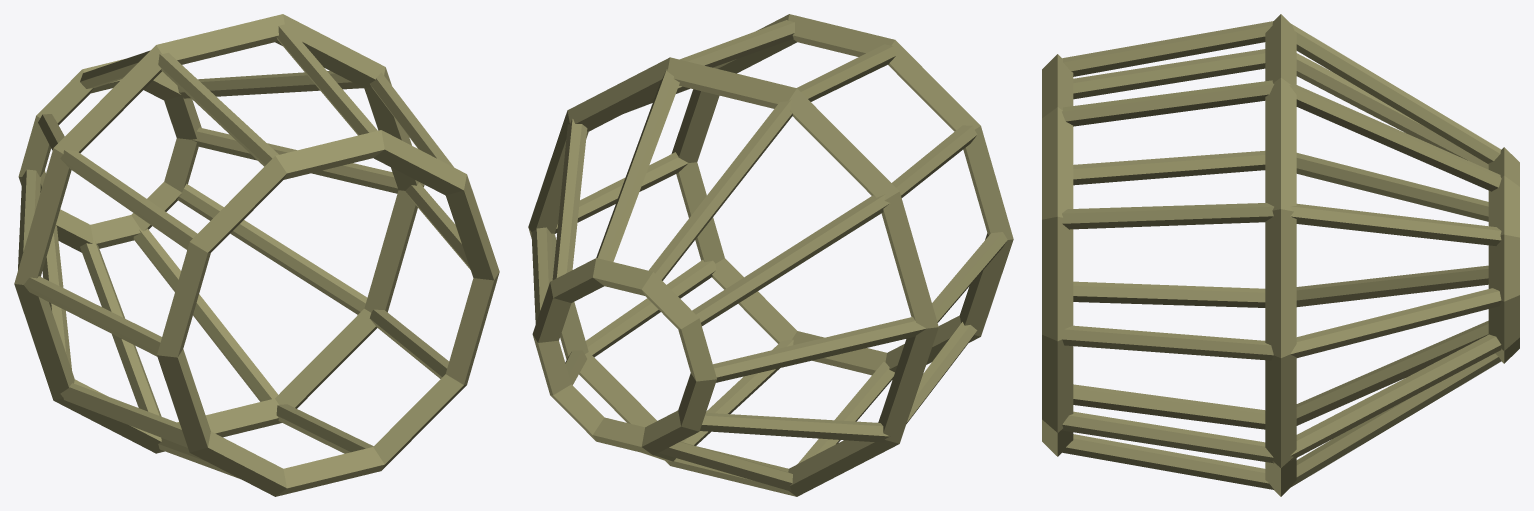
File: map-exclusive-v3__lake_04.glb
The picture shows the model from 3 angles, left to right: view 1: azimuth 30°, elevation 25°; view 2: azimuth 150°, elevation 25°; view 3: azimuth 270°, elevation 25°; orthographic projection. The views are drawn at different scales.
Parts seen in each view (by area): view 1: lake_04; view 2: lake_04; view 3: lake_04.
Boxes of the visible parts, x1=… form: lake_04: x1=14, y1=14, x2=499, y2=496; lake_04: x1=528, y1=14, x2=1013, y2=496; lake_04: x1=1042, y1=14, x2=1519, y2=496.
Size of the model in its own units: 1.09 by 1.04 by 1.07.
